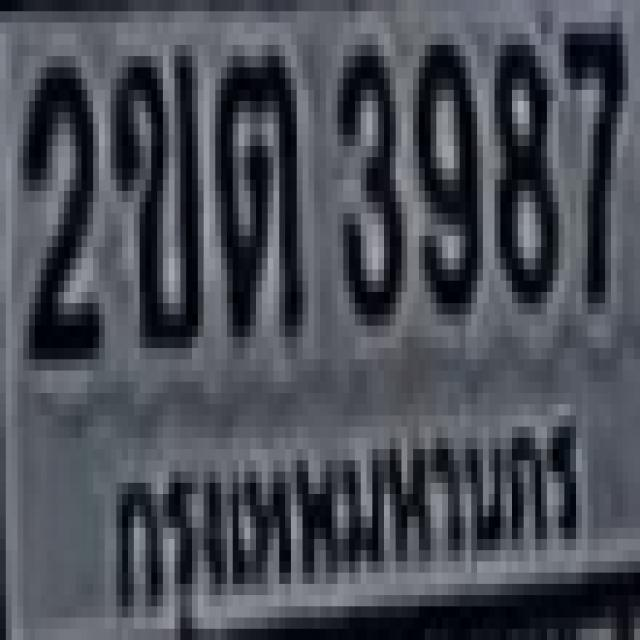2: (20, 50, 96, 354)
3: (332, 34, 402, 314)
7: (558, 17, 622, 297)
8: (488, 34, 552, 292)
9: (410, 34, 474, 303)
A02: (108, 45, 195, 337)
A21: (209, 51, 297, 331)
BKK: (108, 400, 595, 631)
